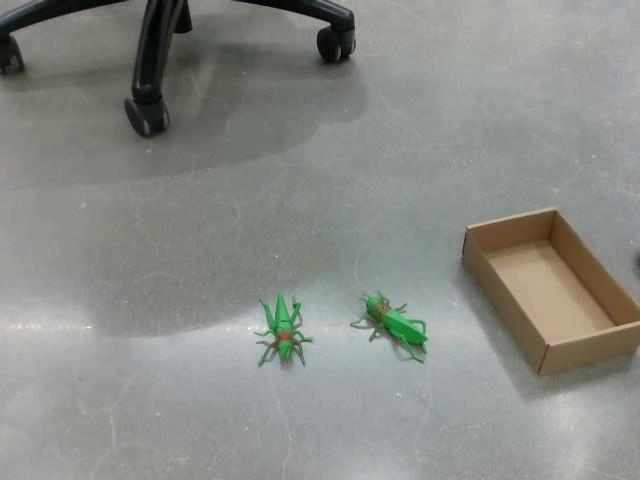box: (461, 206, 639, 376)
grasshopper: (349, 289, 429, 363), (253, 291, 313, 369)
